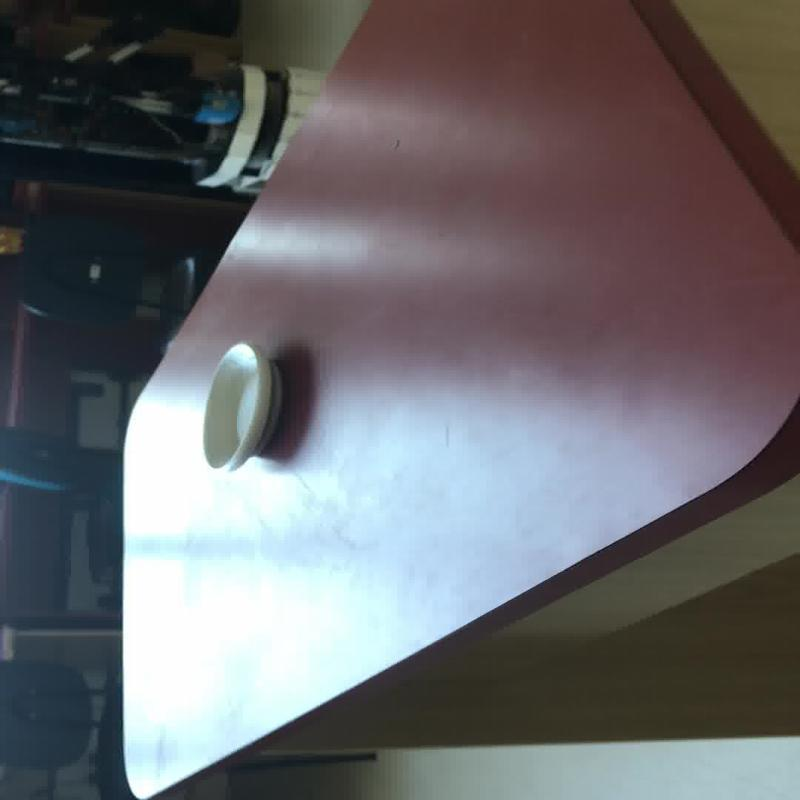plate: (201, 341, 282, 471)
